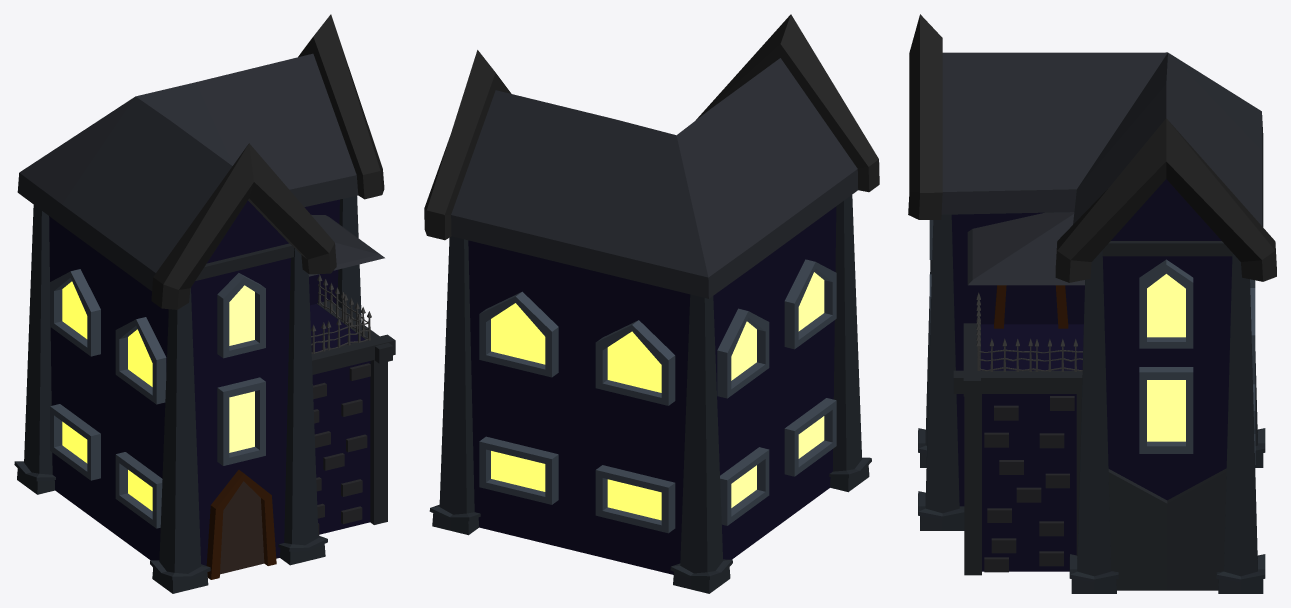
File: CasaGoticaVariante2_Casa01.fbx
3 renders of one model, left to right at view 1: azimuth 30°, elevation 25°; view 2: azimuth 150°, elevation 25°; view 3: azimuth 270°, elevation 25°, orthographic. The views are drawn at different scales.
Parts seen in each view (by area): view 1: T2_Telhado01, T2_Parede01, T2_Pilar01, T2_JanelaContorno01, T2_Divisao01, T2_FundoJanela01, T2_Porta01.001, T2_Tijolo01, T2_PortaContorno01, T2_Cerca01; view 2: T2_Telhado01, T2_Parede01, T2_Pilar01, T2_JanelaContorno01, T2_FundoJanela01; view 3: T2_Telhado01, T2_Parede01, T2_Pilar01, T2_Divisao01, T2_JanelaContorno01, T2_Tijolo01, T2_FundoJanela01, T2_Cerca01, T2_PortaContorno01.
Boxes of the visible parts, x1,y1,x2,y2 form: T2_Telhado01: (17,14,384,309); T2_Parede01: (49,199,370,565); T2_Pilar01: (14,196,361,593); T2_JanelaContorno01: (50,269,265,528); T2_Divisao01: (195,243,395,524); T2_FundoJanela01: (62,281,254,510); T2_Porta01.001: (220,481,264,574); T2_Tijolo01: (313,363,370,535); T2_PortaContorno01: (206,470,276,579); T2_Cerca01: (311,274,371,354); T2_Telhado01: (424,14,879,298); T2_Parede01: (468,206,836,574); T2_Pilar01: (429,195,871,593); T2_JanelaContorno01: (479,259,836,533); T2_FundoJanela01: (491,272,824,520); T2_Telhado01: (908,14,1276,285); T2_Parede01: (951,179,1232,571); T2_Pilar01: (918,214,1265,593); T2_Divisao01: (953,241,1232,590); T2_JanelaContorno01: (929,220,1255,464); T2_Tijolo01: (984,396,1074,572); T2_FundoJanela01: (1147,274,1185,441); T2_Cerca01: (976,292,1082,371); T2_PortaContorno01: (994,285,1068,328).
Bounding box in the file's own units: 2061 × 2938 × 2061.
